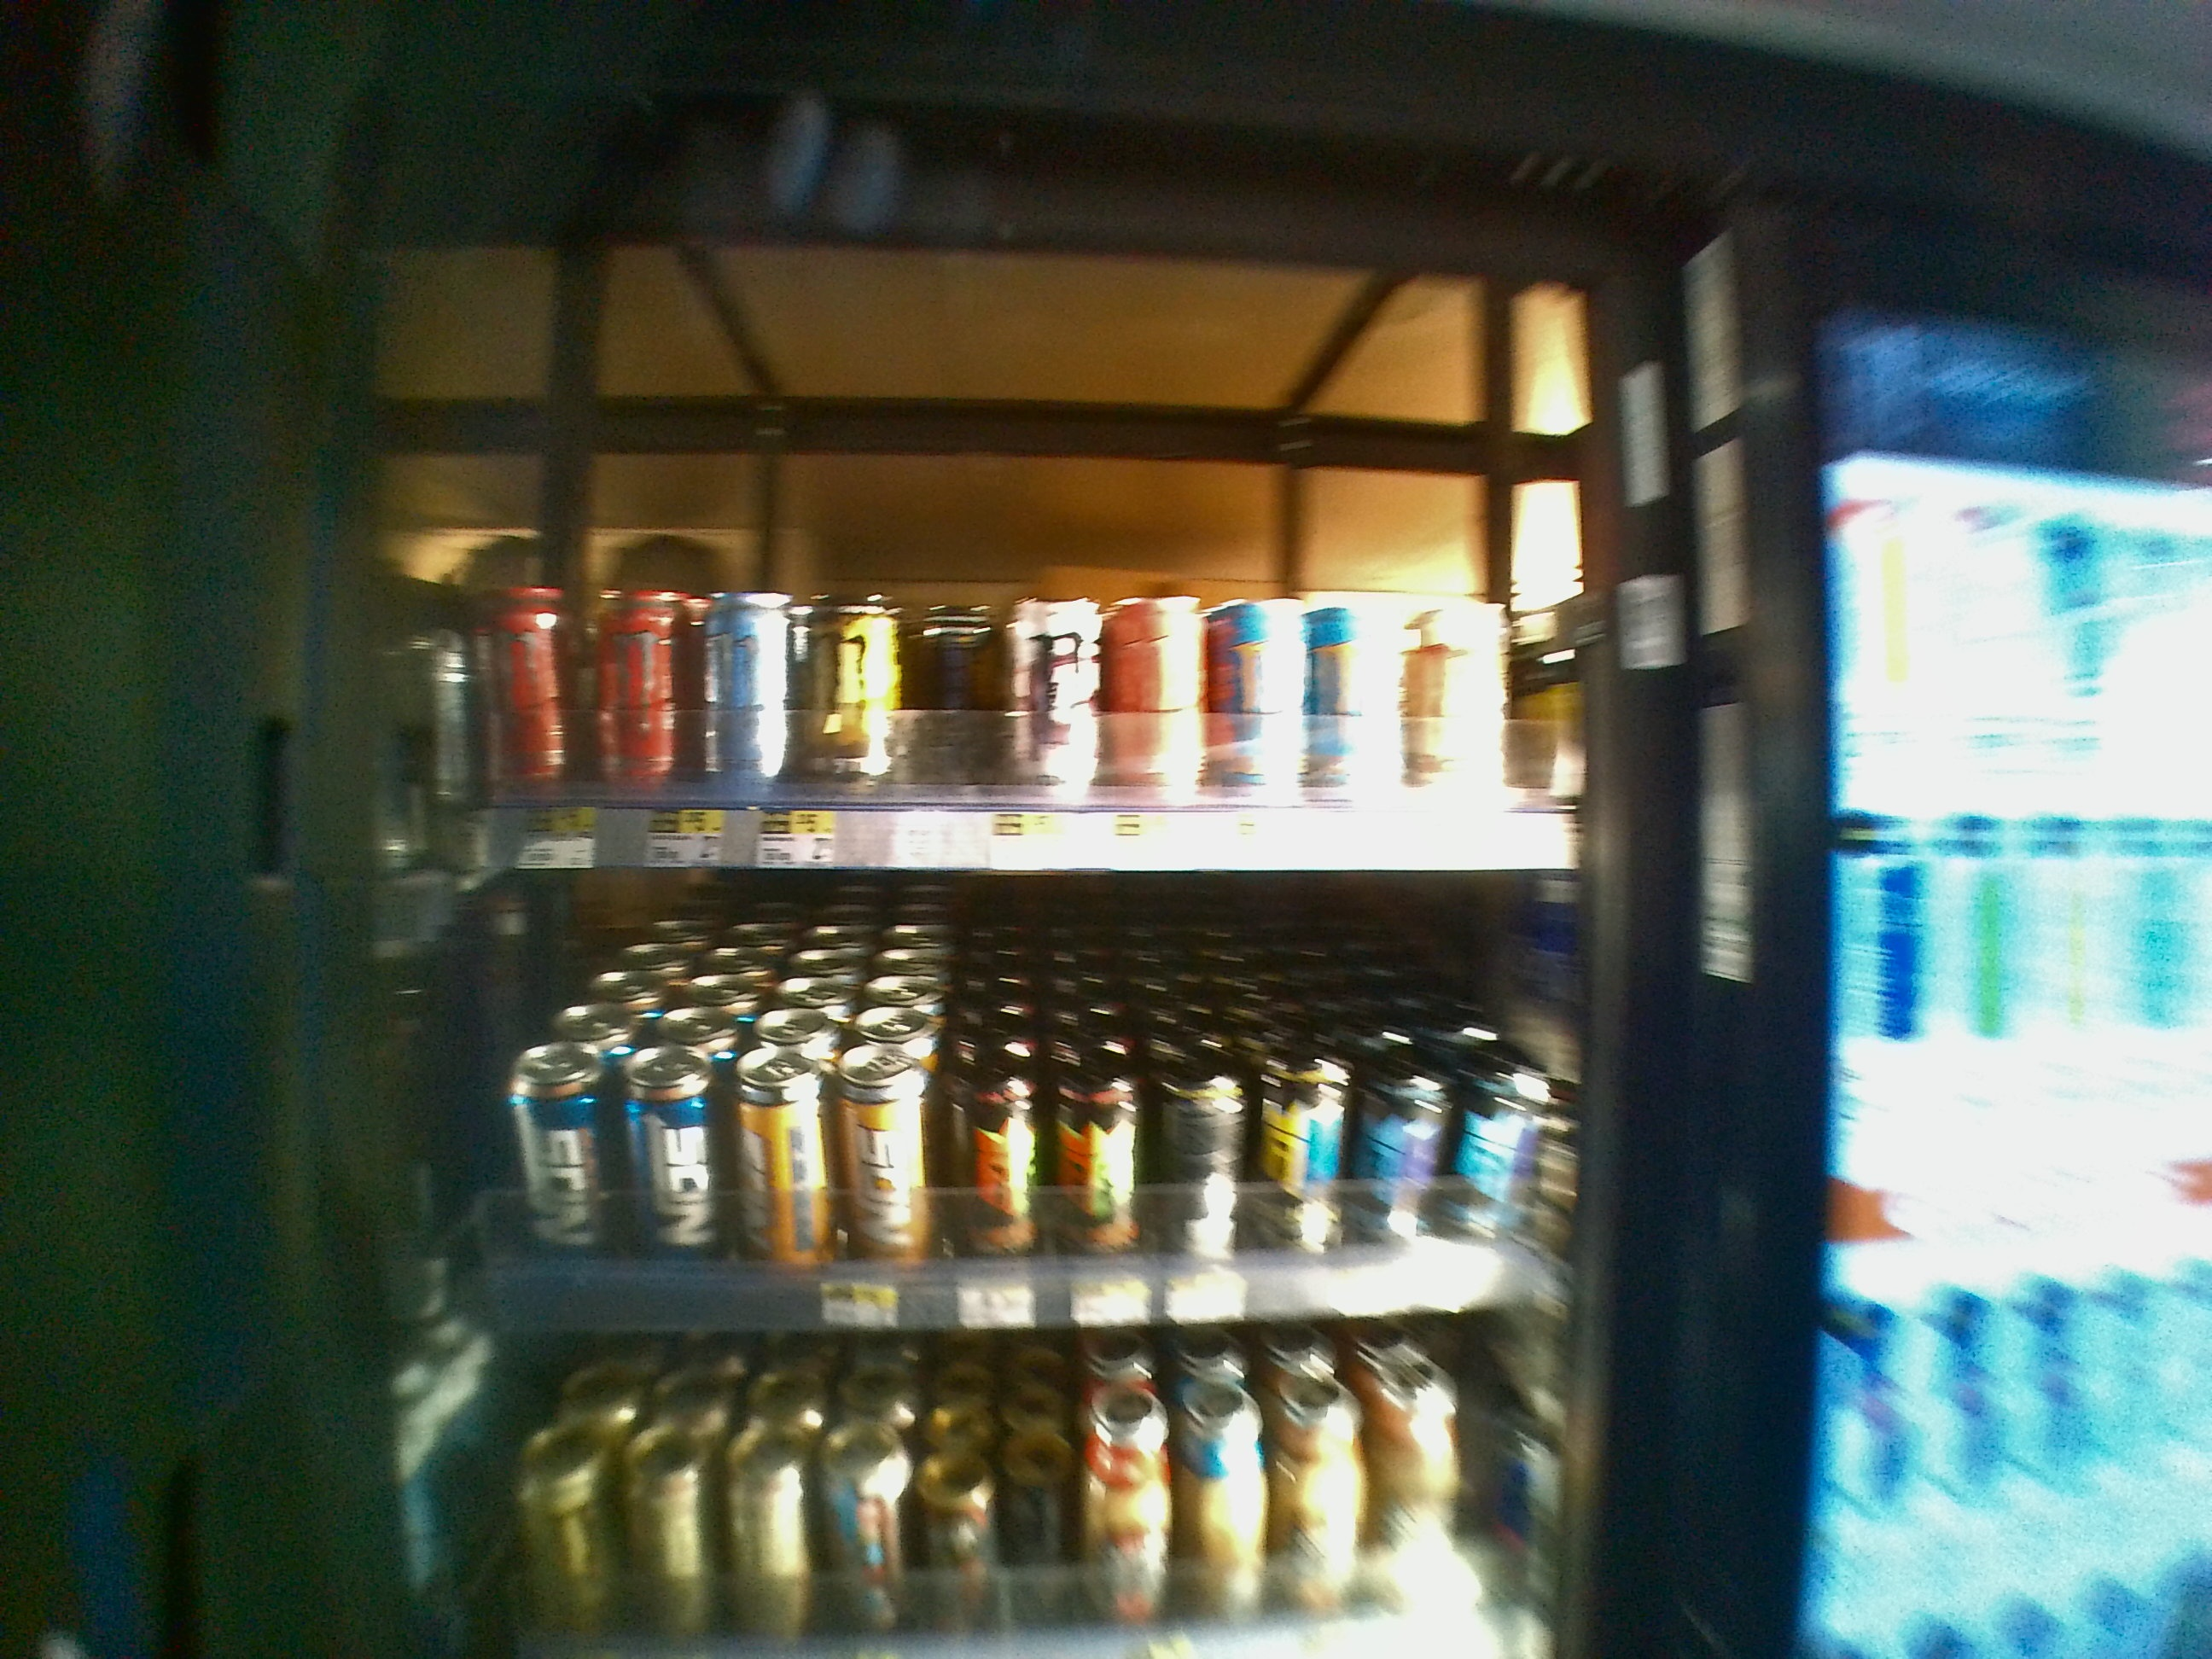shelf: (357, 251, 1597, 868), (348, 861, 1606, 1324)
